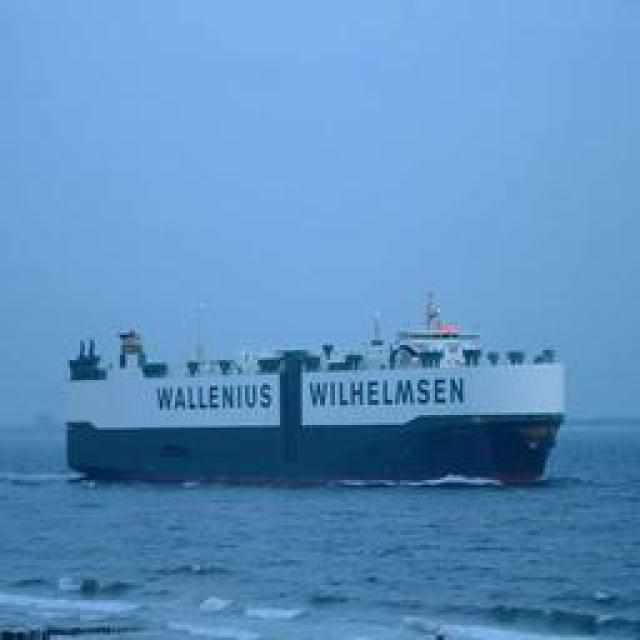CIV_Ship: (25, 281, 565, 491)
